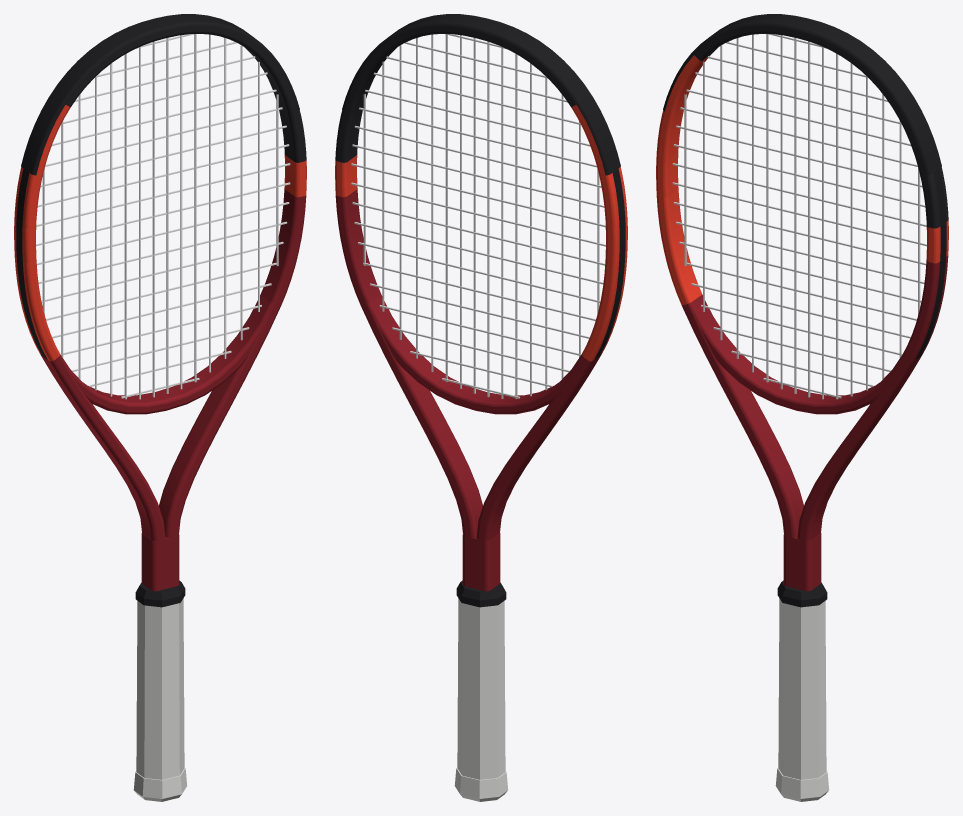
File: dunlop-cx-200-ls-2024.glb
3 views of the same model, side by side, from view 1: azimuth 30°, elevation 25°; view 2: azimuth 150°, elevation 25°; view 3: azimuth 330°, elevation 25° (orthographic).
Visible parts, largest first — view 1: frame, strings_mains, strings_crosses, grip, bumper, grommets, butt_cap, collar; view 2: frame, strings_mains, strings_crosses, grip, bumper, grommets, butt_cap, collar; view 3: frame, strings_mains, strings_crosses, grip, bumper, grommets, butt_cap, collar.
Part boxes in pixels (x1=…): frame: x1=14, y1=26, x2=306, y2=591; strings_mains: x1=42, y1=34, x2=278, y2=399; strings_crosses: x1=36, y1=34, x2=290, y2=398; grip: x1=136, y1=598, x2=184, y2=779; bumper: x1=21, y1=14, x2=299, y2=175; grommets: x1=16, y1=168, x2=47, y2=359; butt_cap: x1=133, y1=768, x2=187, y2=801; collar: x1=135, y1=580, x2=185, y2=607; frame: x1=335, y1=26, x2=627, y2=591; strings_mains: x1=363, y1=34, x2=599, y2=399; strings_crosses: x1=351, y1=34, x2=605, y2=398; grip: x1=457, y1=598, x2=505, y2=779; bumper: x1=342, y1=14, x2=620, y2=175; grommets: x1=594, y1=168, x2=625, y2=359; butt_cap: x1=454, y1=768, x2=508, y2=801; collar: x1=456, y1=580, x2=506, y2=607; frame: x1=656, y1=26, x2=948, y2=591; strings_mains: x1=684, y1=34, x2=920, y2=399; strings_crosses: x1=672, y1=34, x2=926, y2=398; grip: x1=778, y1=598, x2=826, y2=779; bumper: x1=663, y1=14, x2=941, y2=175; grommets: x1=915, y1=168, x2=946, y2=359; butt_cap: x1=775, y1=768, x2=829, y2=801; collar: x1=777, y1=580, x2=827, y2=607.
Bounding box in the file's own units: 0.2634 × 0.6861 × 0.0377.
